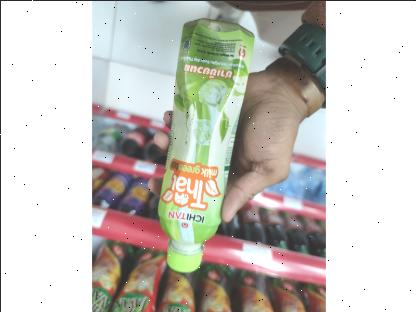Plastic Bottle: (147, 14, 253, 290)
